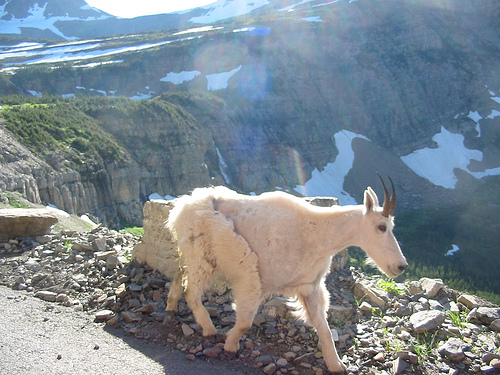goat: (162, 171, 409, 374)
